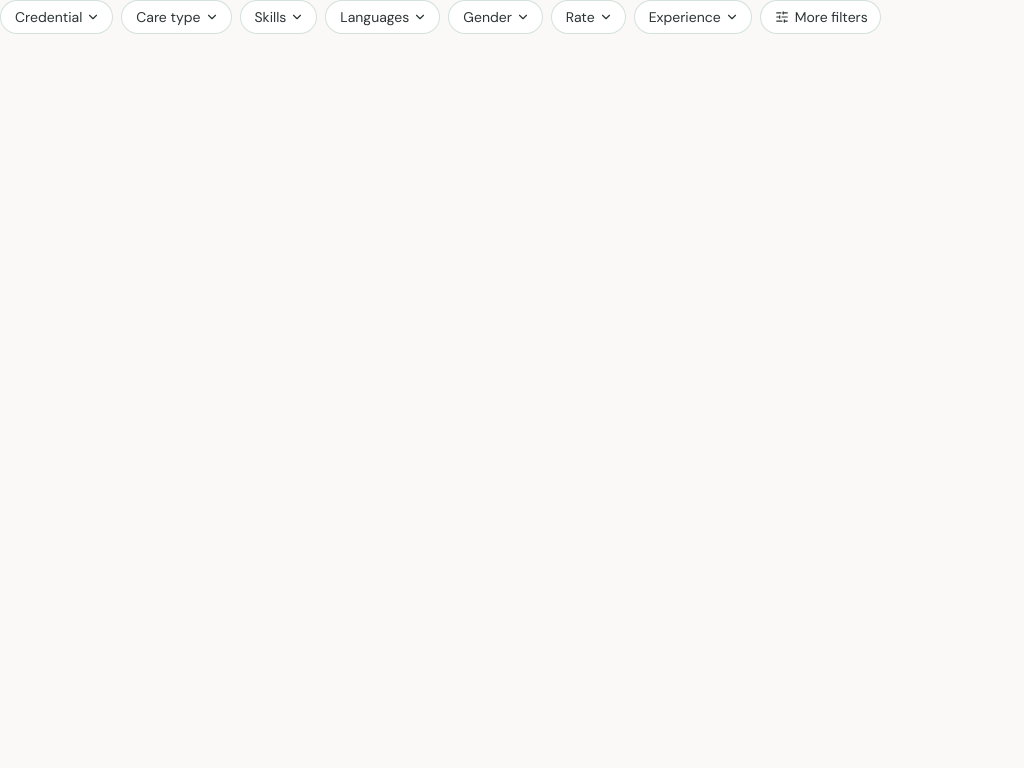
it: chip options come from the directory › does not offer a credential nobody holds
The width and height of the screenshot is (1024, 768).
Click the button "Credential".
click(57, 17)  # box 1,1 -> 112,33
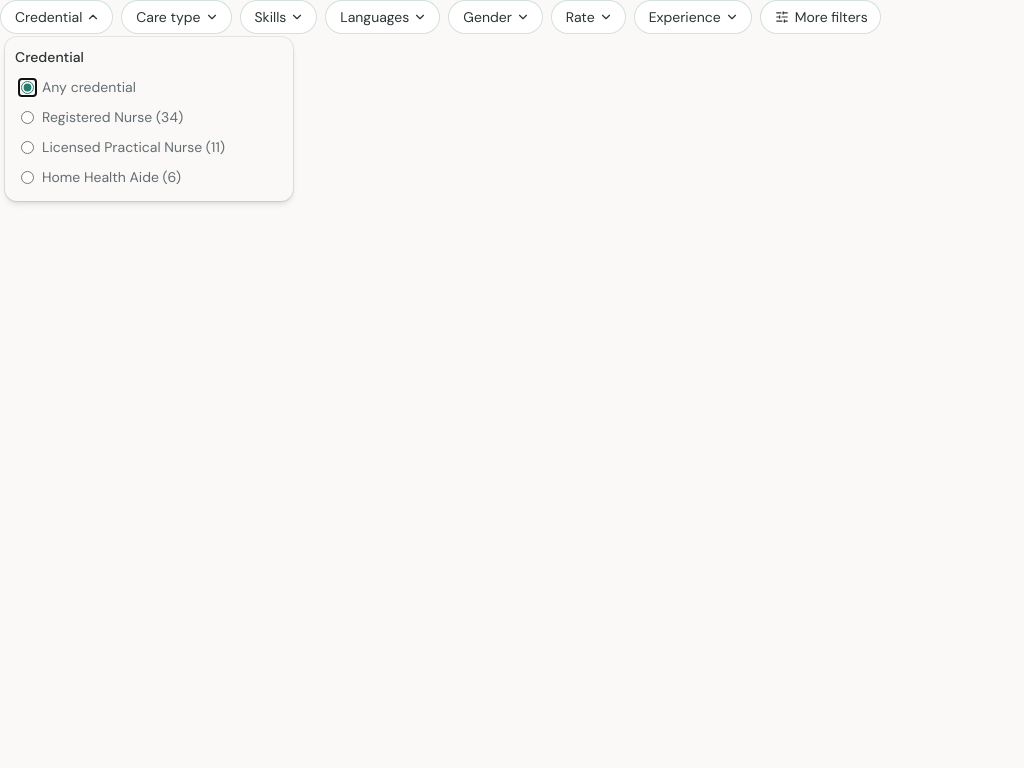
Expected: the radio button labelled "Registered Nurse (34)" is shown, 21,110 -> 34,124
